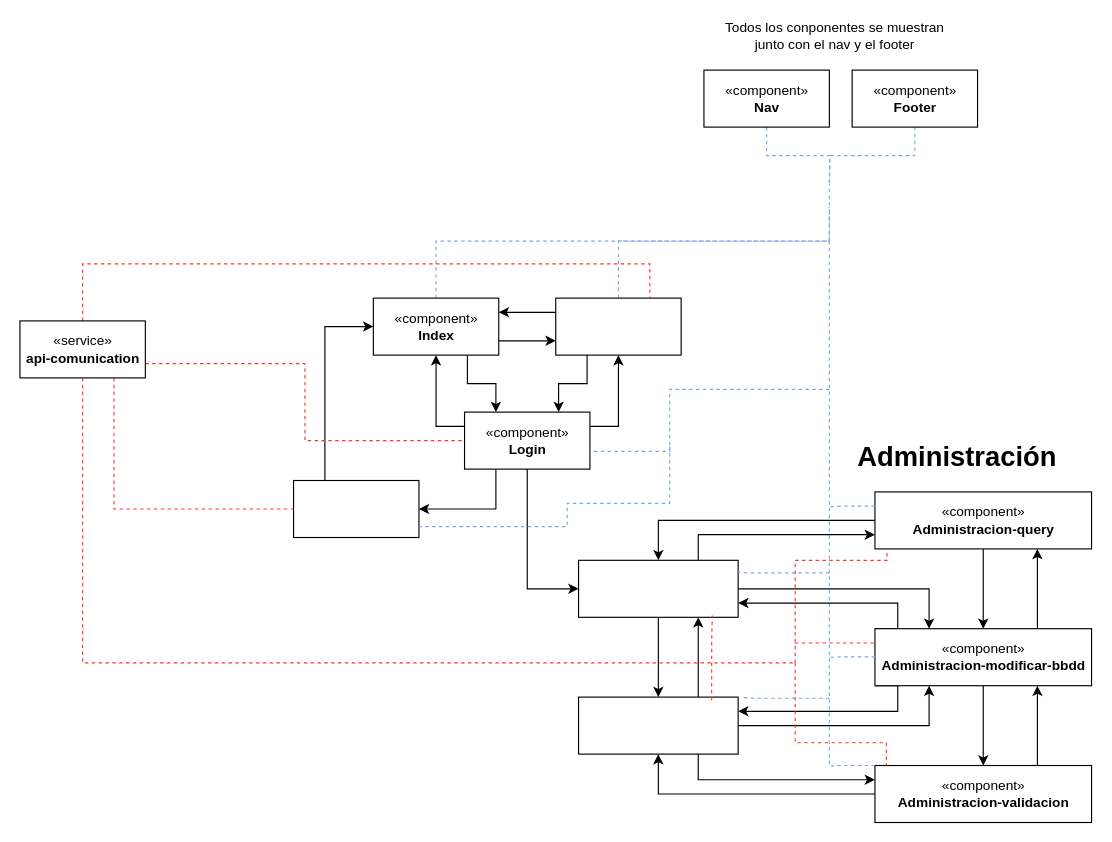
This 1112x842 diagram has some shape labels left out. Here are the shapes that lost their labels. From the top down, the box of each, then its label:
(555, 297, 681, 355): «component» Búsqueda
(292, 479, 419, 538): «component» Acceder
(577, 559, 738, 617): «component» Administracion
(577, 696, 738, 754): «component» Administracion-cache
